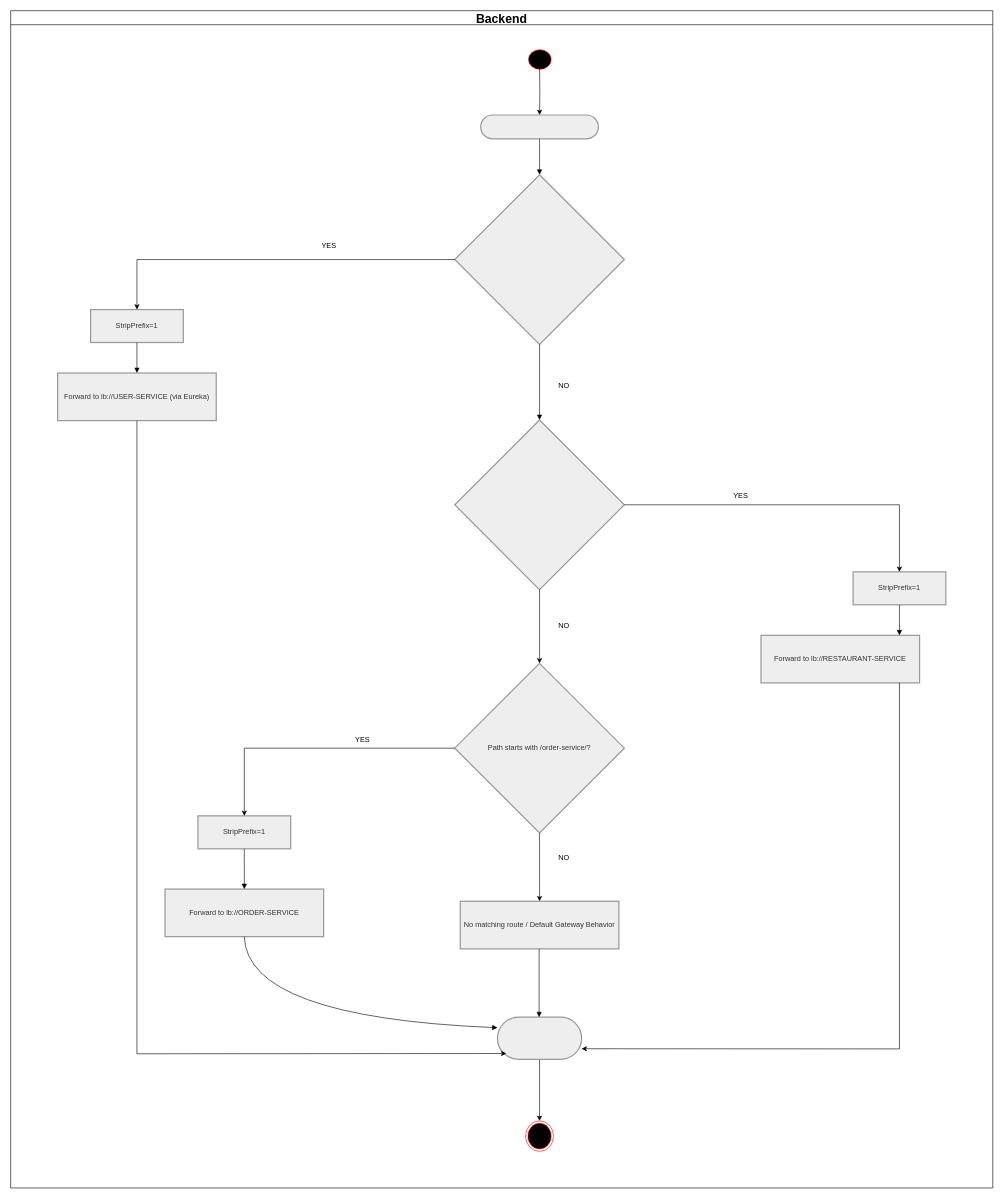
Image size: 1003x1199. Some labels were removed from this diagram. Here are the shapes that lost their labels. From the top down, the centre of each, then its label:
At point (539, 126): "HTTP Request Received".
At point (539, 259): "Path starts with /user-service/?".
At point (539, 504): "Path starts with /restaurant-service/?".
At point (539, 1038): "Client Response".
